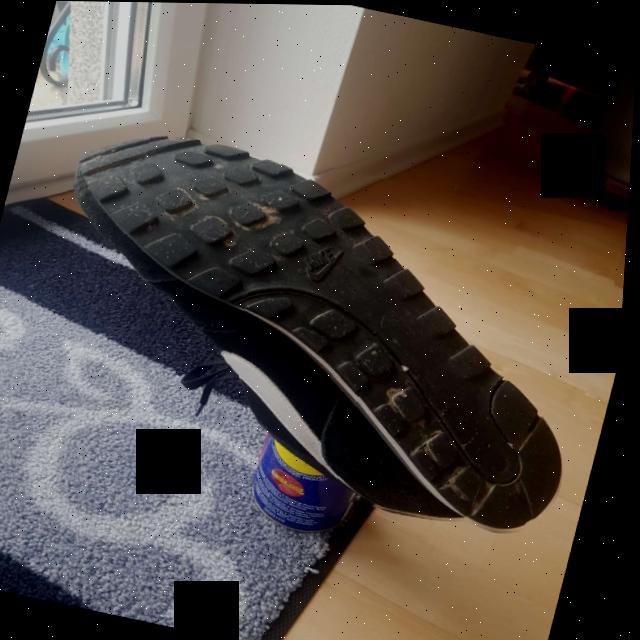shoe: (6, 114, 635, 545)
